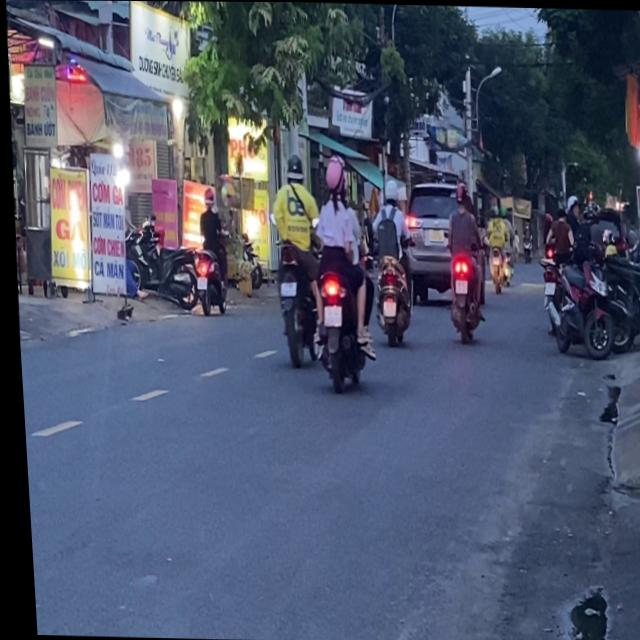helmet: (320, 156, 345, 199), (281, 151, 301, 181), (379, 176, 396, 204), (199, 184, 212, 208)
licenseplate: (302, 156, 375, 391), (261, 149, 323, 365), (362, 175, 413, 346), (436, 179, 486, 341), (186, 183, 229, 316)
nohelmet: (319, 305, 338, 325), (275, 281, 292, 295), (379, 300, 392, 315), (450, 278, 463, 292), (192, 276, 203, 289)
